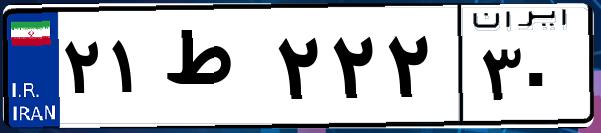0: (525, 38, 570, 115)
1: (110, 28, 158, 98)
2: (270, 28, 330, 110), (385, 28, 445, 110), (330, 28, 385, 110), (57, 26, 110, 100)
3: (475, 38, 525, 113)
ط: (158, 20, 270, 120)
